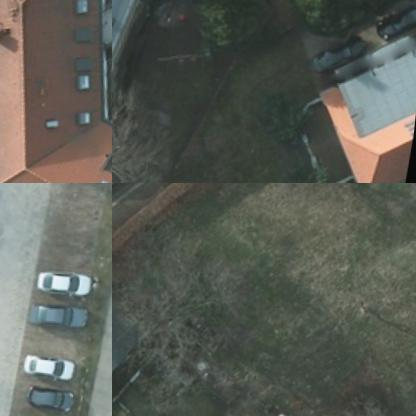car: (307, 30, 368, 76), (374, 0, 415, 44), (25, 388, 86, 414), (37, 269, 92, 295), (24, 357, 86, 380), (32, 302, 90, 326)
